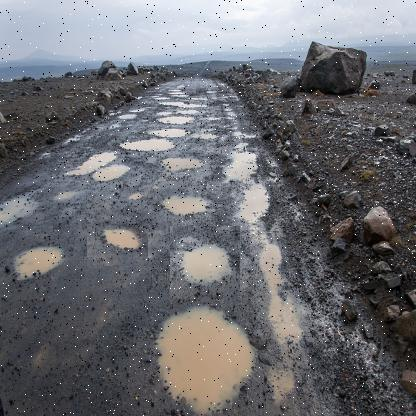pothole_water: (142, 286, 284, 416), (169, 226, 240, 300), (8, 239, 78, 299), (86, 200, 148, 267)
